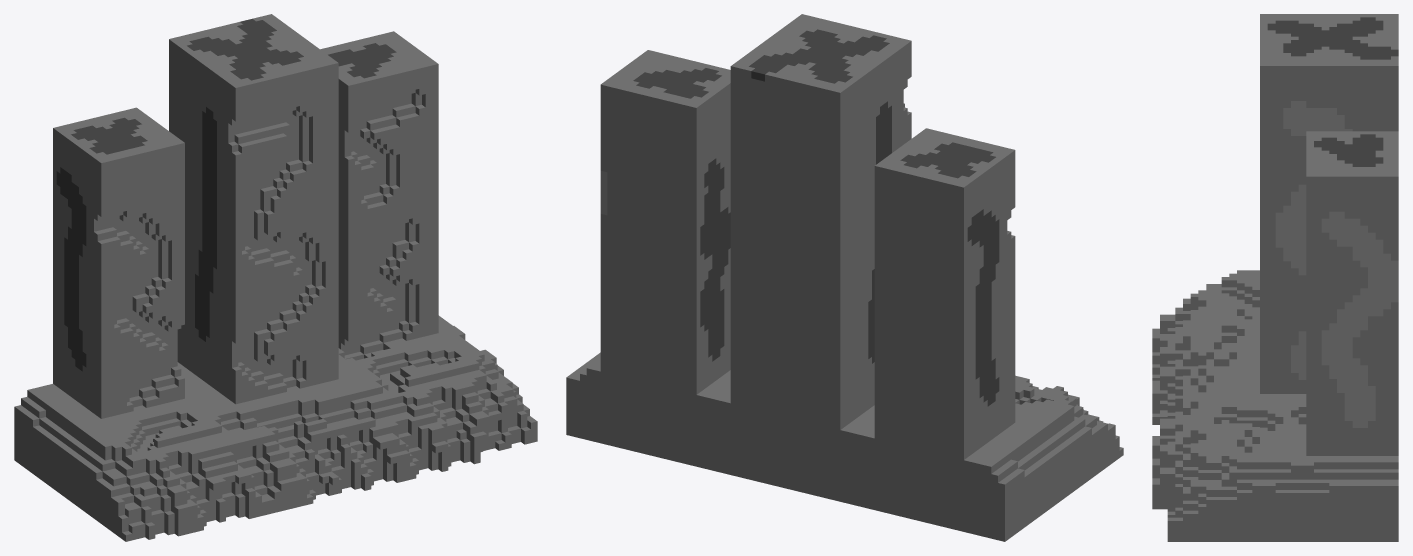
The model's file is stoneSculpture_norm.obj.
The picture shows the model from 3 angles, left to right: view 1: azimuth 30°, elevation 25°; view 2: azimuth 150°, elevation 25°; view 3: azimuth 270°, elevation 25°; orthographic projection. The views are drawn at different scales.
Size of the model in its own units: 6.4 by 5.7 by 3.2.
1 material, 1 textured.
